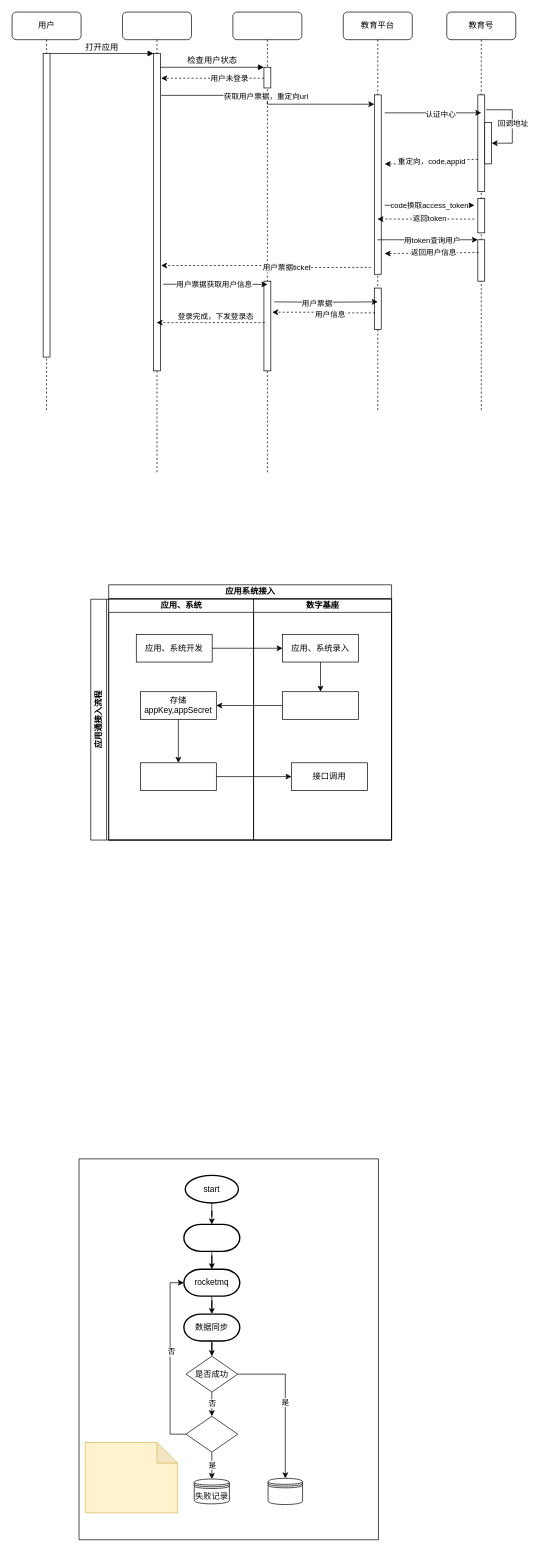
Some shapes in this 540 by 1552 pixel diagram are drawn without their labels. The box of each missing label's shape, as (x1, y1, x2, y2) in pixels:
失败记录通过人工核查，判断是否需要同步: (85, 1442, 178, 1513)
应用客户端: (122, 11, 191, 474)
应用服务端 （低代码平台）: (232, 11, 302, 474)
成功记录: (267, 1478, 303, 1505)
消息事件通知: (183, 1223, 240, 1252)
生成appKey,appSecret: (282, 691, 358, 719)
生成签名: (140, 762, 216, 790)
第二次同步: (185, 1416, 238, 1452)
